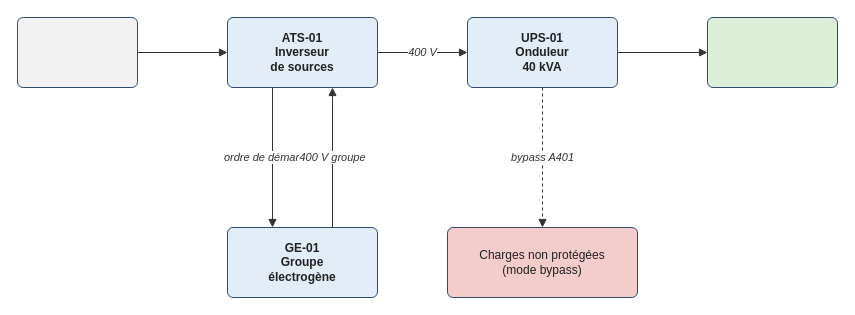
This 855x315 diagram has some shape labels left out. Each missing label, with the centre of its shape:
"Charges critiques" goes at [772,52].
"Réseau 400 V" goes at [77,52].
